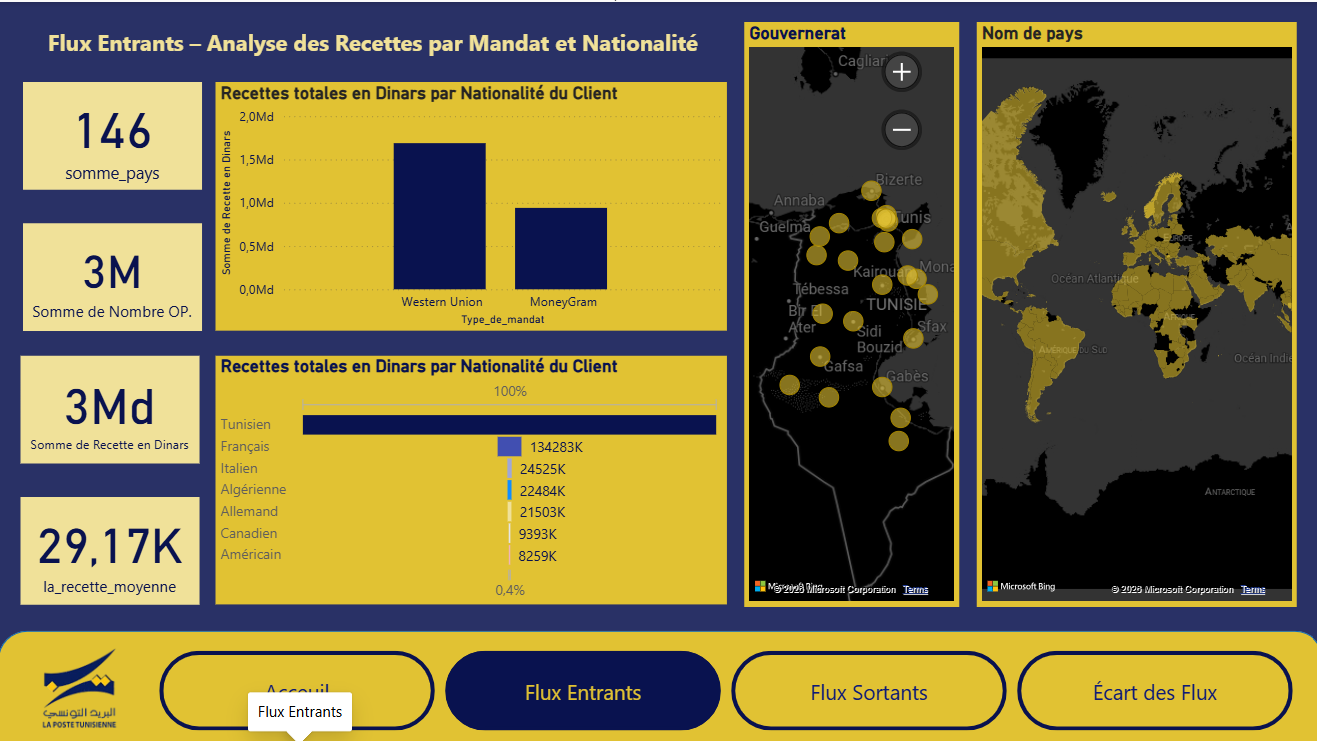

The dashboard page shown, as its layout file describes it:
{"tool":"powerbi","page":{"name":"Flux Entrants","canvas":[1280,720],"ordinal":1},"visuals":[{"type":"shape","box":[0,607.1,1280,112.9],"z":0},{"type":"image","box":[0,607.1,155.7,112.9],"z":1000},{"type":"pageNavigator","box":[155.7,625.7,1097.1,77.1],"z":2000},{"type":"columnChart","title":"Recettes totales en Dinars par Nationalité du Client","fields":{"Y":["Sum(data_transaction csv.Recette en Dinars)"],"Category":["data_transaction csv.Type_de_mandat"]},"box":[209.9,77.2,493.4,240.1],"z":3000},{"type":"funnel","title":"Recettes totales en Dinars par Nationalité du Client","fields":{"Category":["data_transaction csv.Nationalite_client"],"Y":["Sum(data_transaction csv.Recette en Dinars)"]},"box":[209.9,341.4,493.4,240.1],"z":4000},{"type":"map","fields":{"Category":["data_transaction csv.Gouvernerat"]},"box":[720.4,19.2,207.2,564],"z":5000},{"type":"filledMap","title":"Nom de pays ","fields":{"Category":["data_transaction csv.Nom_Pays"]},"box":[944.1,19.2,308.7,564],"z":6000},{"type":"card","fields":{"Values":["Sum(data_transaction csv.Nombre OP.)"]},"box":[24.1,213.5,172.5,103.8],"z":7000},{"type":"card","fields":{"Values":["Sum(data_transaction csv.Recette en Dinars)"]},"box":[21.7,341.4,172.5,103.8],"z":8000},{"type":"card","fields":{"Values":["data_transaction csv.somme_pays"]},"box":[24.1,77.2,172.5,103.8],"z":9000},{"type":"card","fields":{"Values":["data_transaction csv.la_recette_moyenne"]},"box":[21.7,477.8,172.5,103.8],"z":10000},{"type":"textbox","box":[21.7,19.3,680.4,44.6],"z":11000}]}

Visuals, with their boxes in screenshot pixels (x1, y1, x2, y2), scaled from the page's 1280x720 canvas onto the 1317x741 screenshot:
shape: pyautogui.locateOnScreen(0, 625, 1316, 740)
image: pyautogui.locateOnScreen(0, 625, 160, 740)
pageNavigator: pyautogui.locateOnScreen(160, 644, 1289, 723)
"Recettes totales en Dinars par Nationalité du Client" columnChart: pyautogui.locateOnScreen(216, 79, 724, 327)
"Recettes totales en Dinars par Nationalité du Client" funnel: pyautogui.locateOnScreen(216, 351, 724, 598)
map - data_transaction csv.Gouvernerat: pyautogui.locateOnScreen(741, 20, 954, 600)
"Nom de pays " filledMap: pyautogui.locateOnScreen(971, 20, 1289, 600)
card - Sum(data_transaction csv.Nombre OP.): pyautogui.locateOnScreen(25, 220, 202, 327)
card - Sum(data_transaction csv.Recette en Dinars): pyautogui.locateOnScreen(22, 351, 200, 458)
card - data_transaction csv.somme_pays: pyautogui.locateOnScreen(25, 79, 202, 186)
card - data_transaction csv.la_recette_moyenne: pyautogui.locateOnScreen(22, 492, 200, 599)
textbox: pyautogui.locateOnScreen(22, 20, 722, 66)
